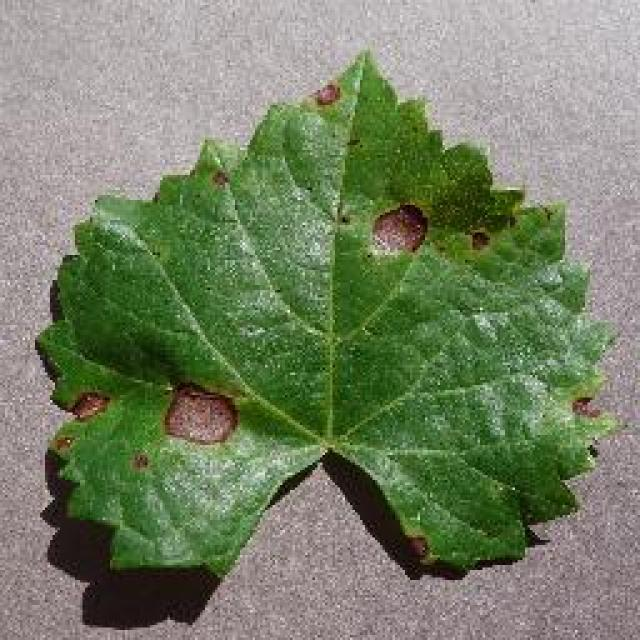Grape___Black_rot: (29, 48, 624, 581)
